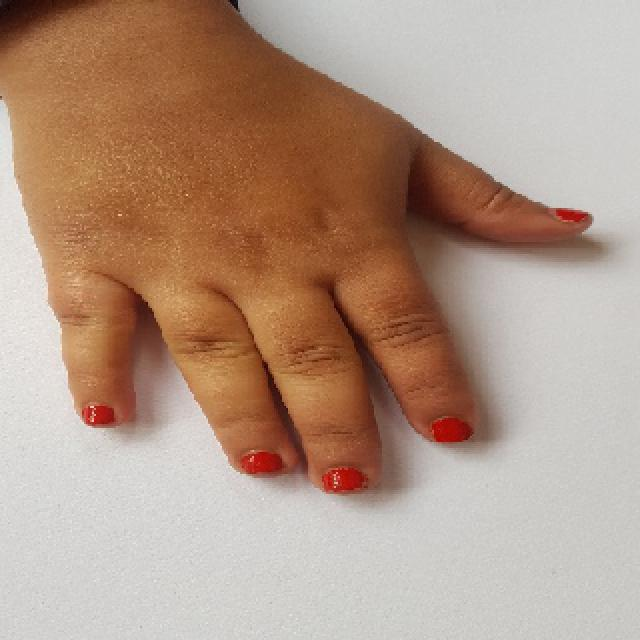Nail: (321, 468, 369, 492), (430, 416, 474, 442), (240, 450, 282, 474), (81, 404, 116, 426), (550, 208, 589, 222)
